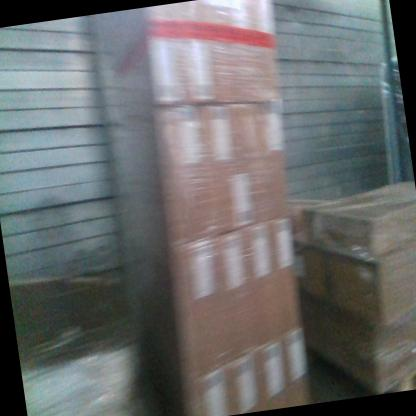pallet: (382, 357, 416, 392)
